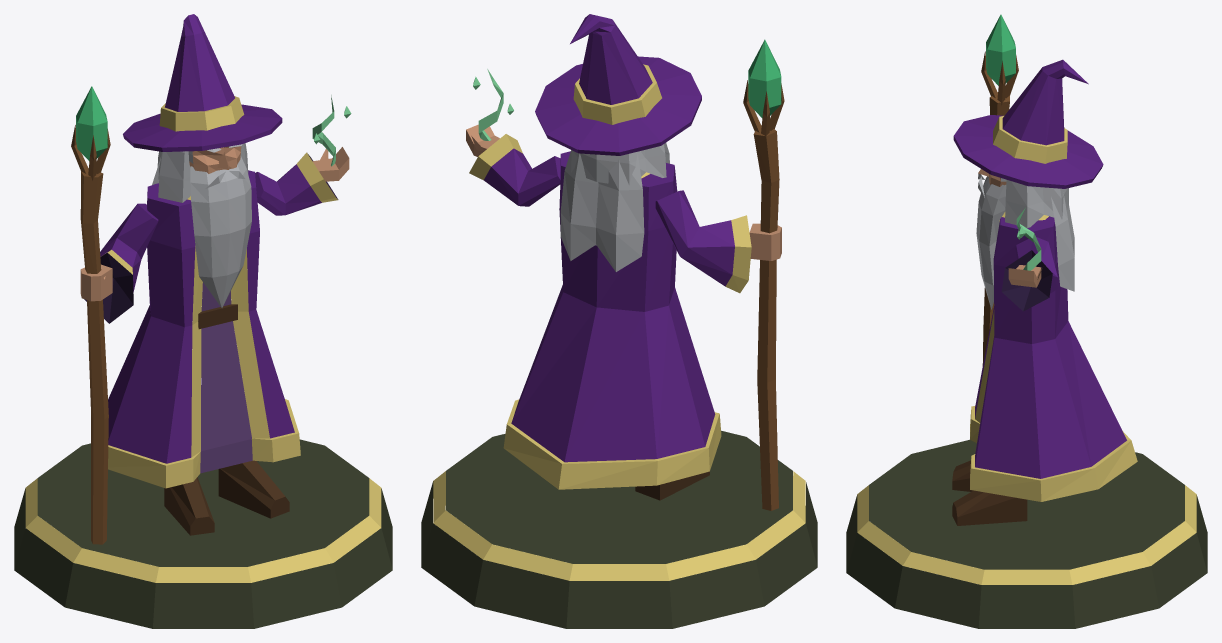
File: wizard.glb
3 renders of one model, left to right at view 1: azimuth 30°, elevation 25°; view 2: azimuth 150°, elevation 25°; view 3: azimuth 270°, elevation 25°, orthographic. The views are drawn at different scales.
Parts seen in each view (by area): view 1: wizard, gold, head, resin; view 2: wizard, gold, resin, head; view 3: wizard, gold, head, resin.
Boxes of the visible parts, x1,y1,x2,y2 form: wizard: (14,14,392,628); gold: (25,96,381,582); head: (157,143,248,202); resin: (76,86,351,166); wizard: (421,14,817,628); gold: (433,64,805,580); resin: (473,39,781,140); head: (571,144,666,185); wizard: (846,51,1207,628); gold: (857,116,1196,584); head: (978,169,1068,227); resin: (986,14,1041,270).
Size of the model in its own units: 0.025 by 0.0378 by 0.025.
